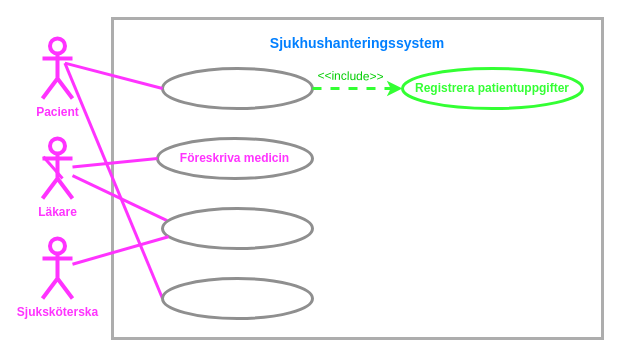
Some shapes in this 621 by 357 pixel diagram are drawn without their labels. The shapes that lost their labels are listed below. From the top down, each one's centre as x and y in pixels, then its label:
At (237,88): "Boka läkarbesök".
At (237,228): "Skapa patientrapport".
At (237,298): "Administrera betalning".
